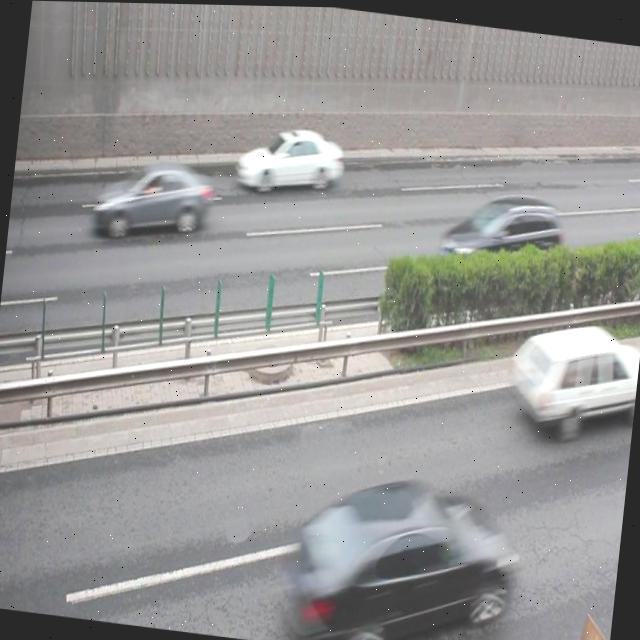car: (278, 460, 518, 640), (500, 311, 640, 439), (433, 181, 564, 277), (90, 154, 212, 247), (234, 121, 344, 199)
